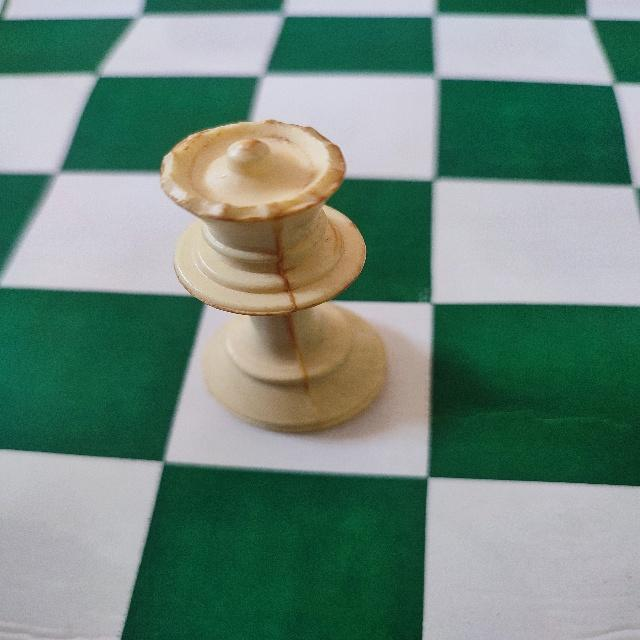Queen: (156, 117, 394, 438)
